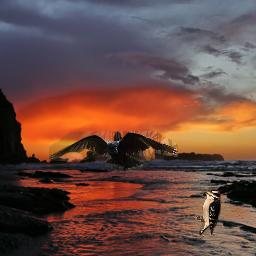Crow: (49, 131, 178, 176)
Woodpecker: (194, 188, 221, 235)
